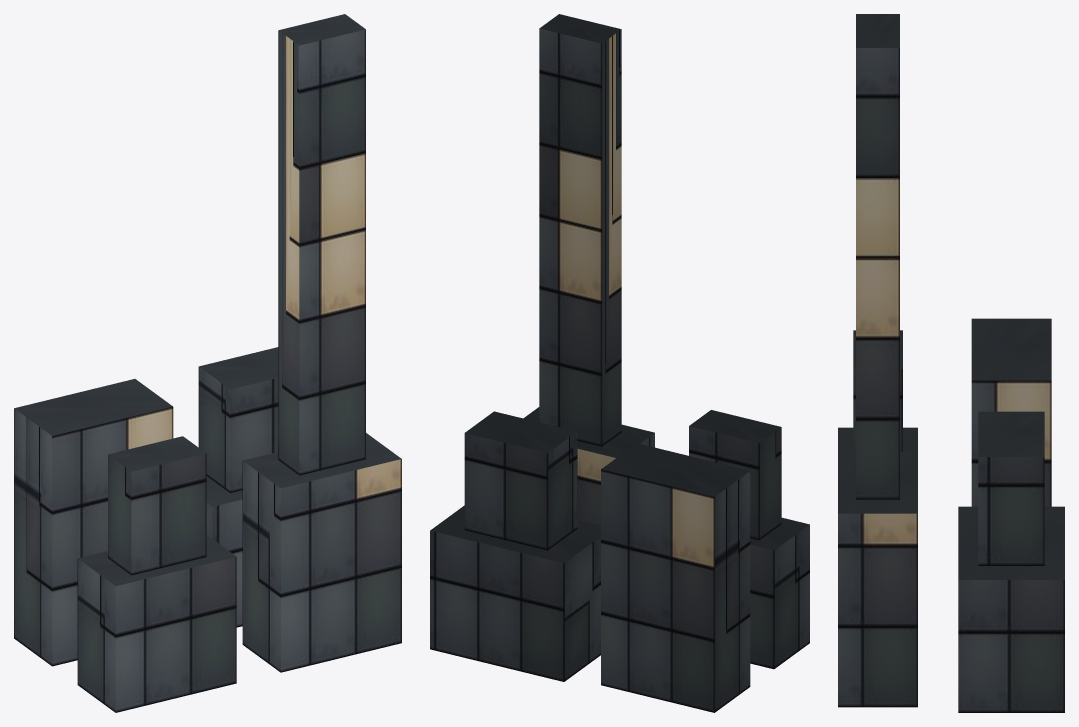
Rendered from city_block_12345_6_26.glb.
3 views of the same model, side by side, from view 1: azimuth 30°, elevation 25°; view 2: azimuth 150°, elevation 25°; view 3: azimuth 270°, elevation 25° (orthographic). The views are drawn at different scales.
Parts seen in each view (by area): view 1: block_26; view 2: block_26; view 3: block_26.
Boxes of the visible parts, left/top/right/bottom form: block_26: left=14, top=14, right=401, bottom=712; block_26: left=430, top=14, right=809, bottom=712; block_26: left=838, top=14, right=1064, bottom=712.
Size of the model in its own units: 4.05 by 8 by 2.55.
Materials: 4 (4 with a texture image).
